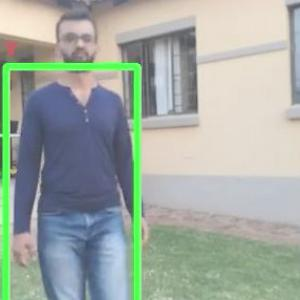follow: (30, 9, 133, 299)
